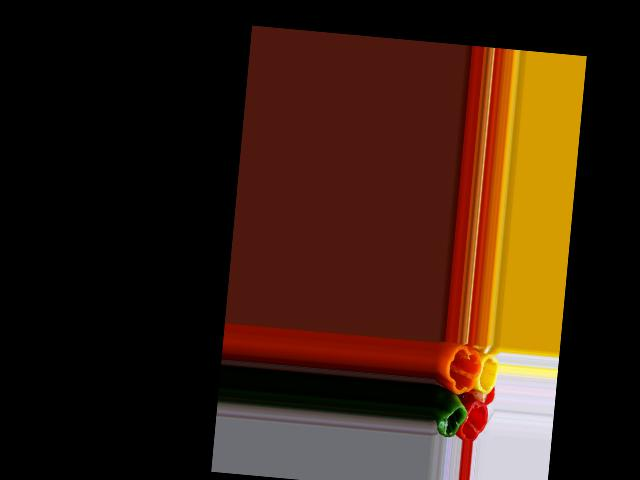bell_pepper: (460, 399, 490, 440)
